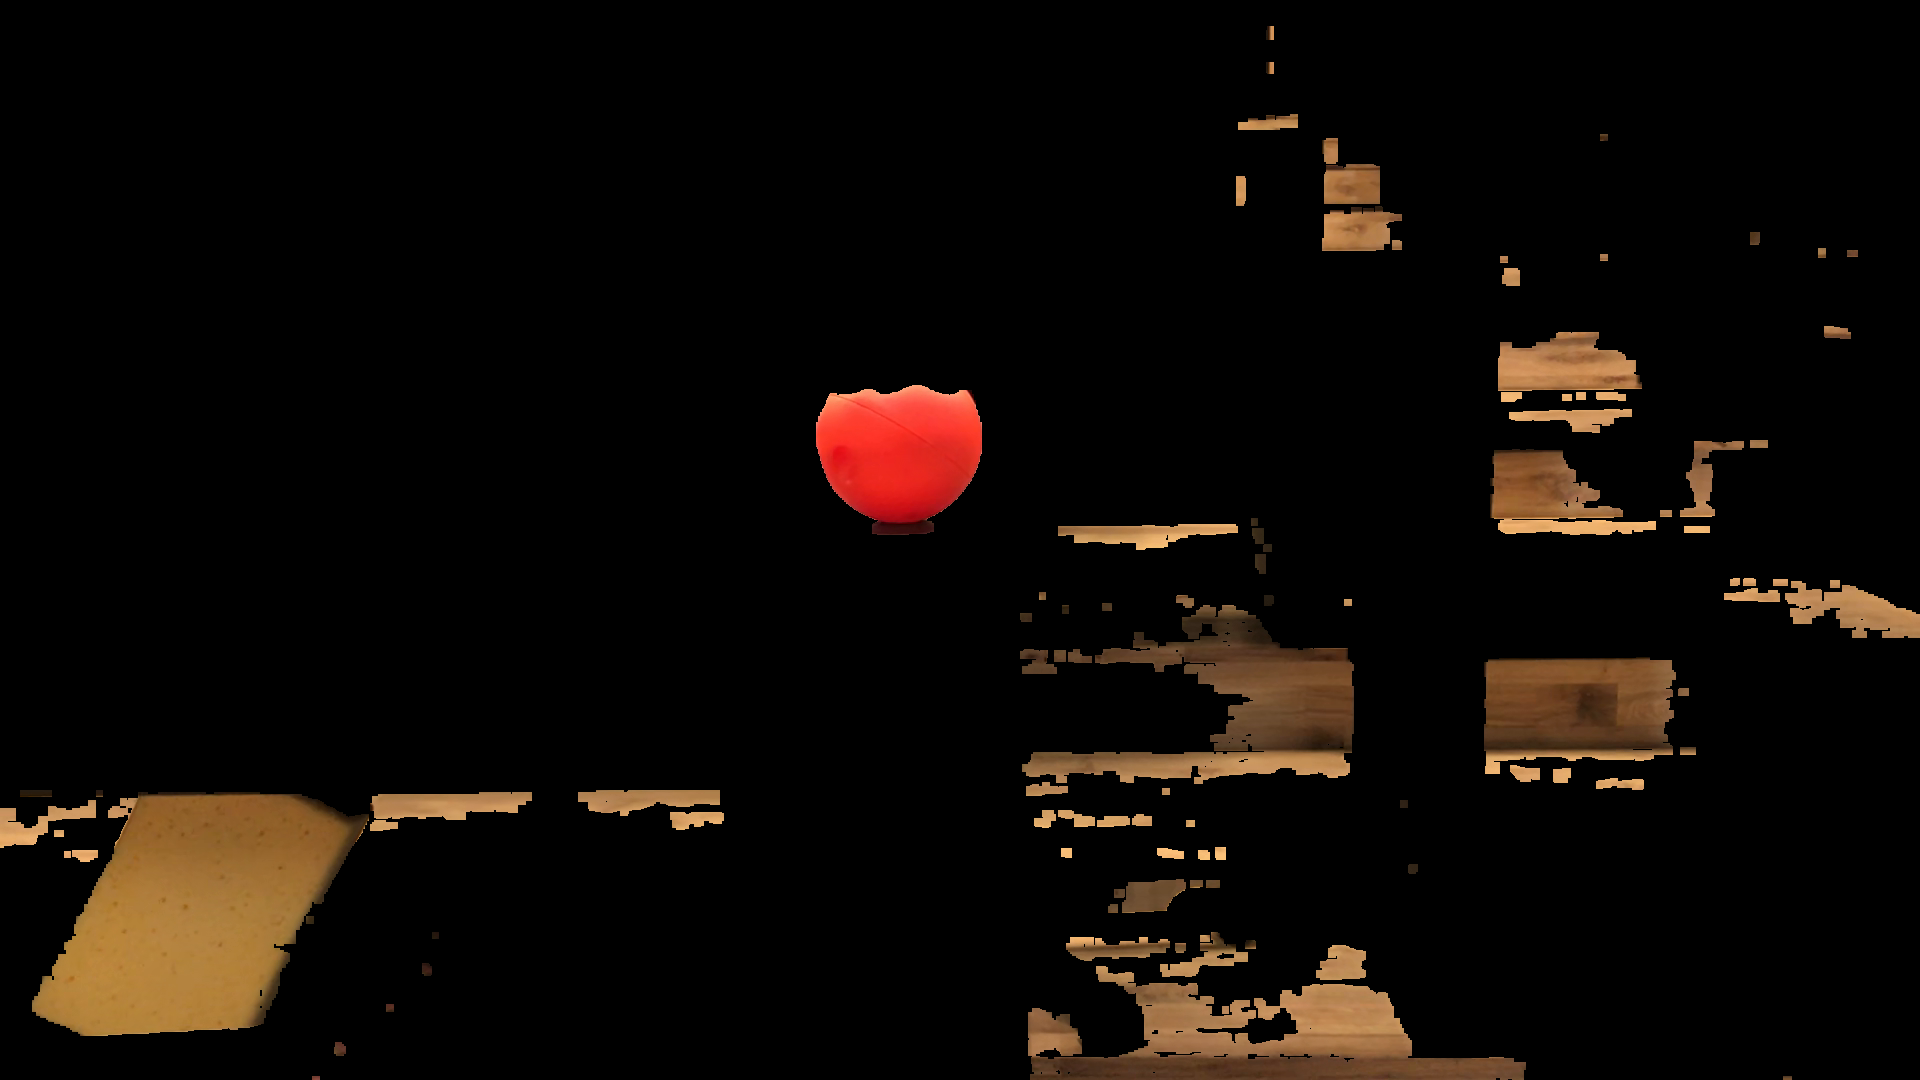Ball: (819, 353, 984, 520)
